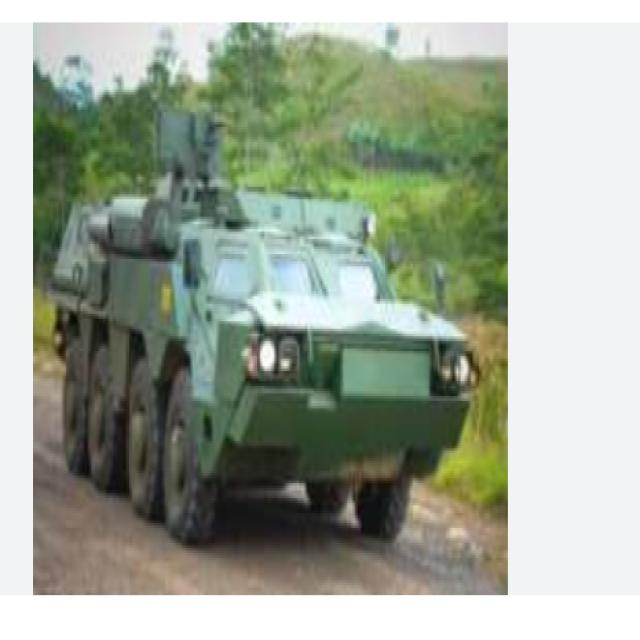MIL_APC: (58, 158, 486, 551)
